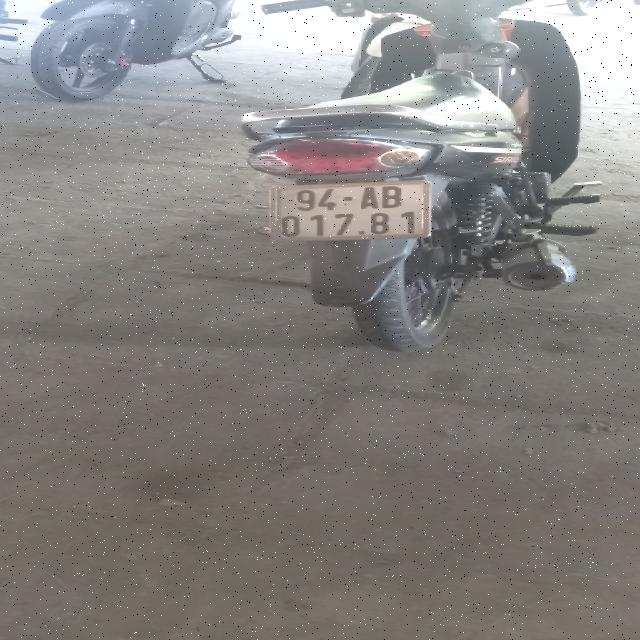0: (282, 216, 302, 237)
1: (400, 211, 422, 234), (310, 214, 325, 236)
4: (318, 189, 338, 210)
7: (334, 212, 354, 235)
8: (369, 212, 392, 235)
9: (296, 190, 316, 210)
A: (360, 187, 378, 209)
B: (382, 186, 402, 210)
